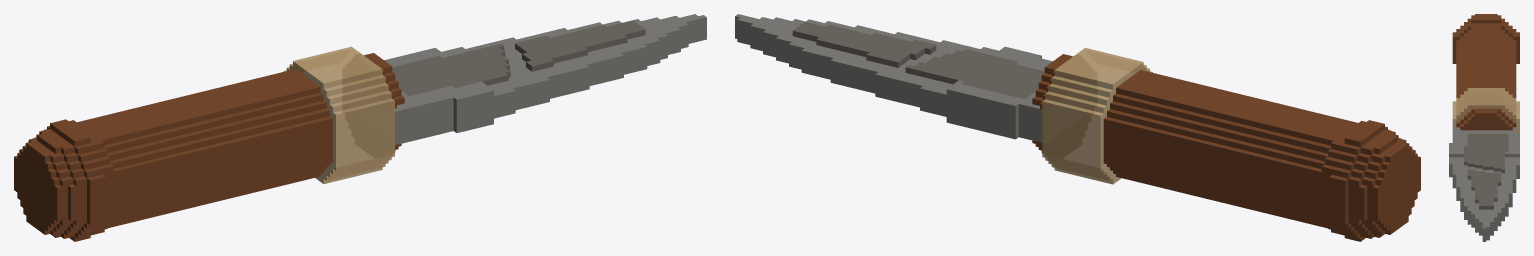
The model's file is primitive_knife.glb.
3 views of the same model, side by side, from view 1: azimuth 30°, elevation 25°; view 2: azimuth 150°, elevation 25°; view 3: azimuth 270°, elevation 25° (orthographic). The views are drawn at different scales.
Visible parts, largest first — view 1: primitive_knife:compound; view 2: primitive_knife:compound; view 3: primitive_knife:compound.
Boxes of the visible parts, left/top/right/bottom form: primitive_knife:compound: left=14, top=14, right=706, bottom=241; primitive_knife:compound: left=735, top=14, right=1420, bottom=241; primitive_knife:compound: left=1449, top=14, right=1519, bottom=241.
Size of the model in its own units: 0.25 by 0.036 by 0.038.
